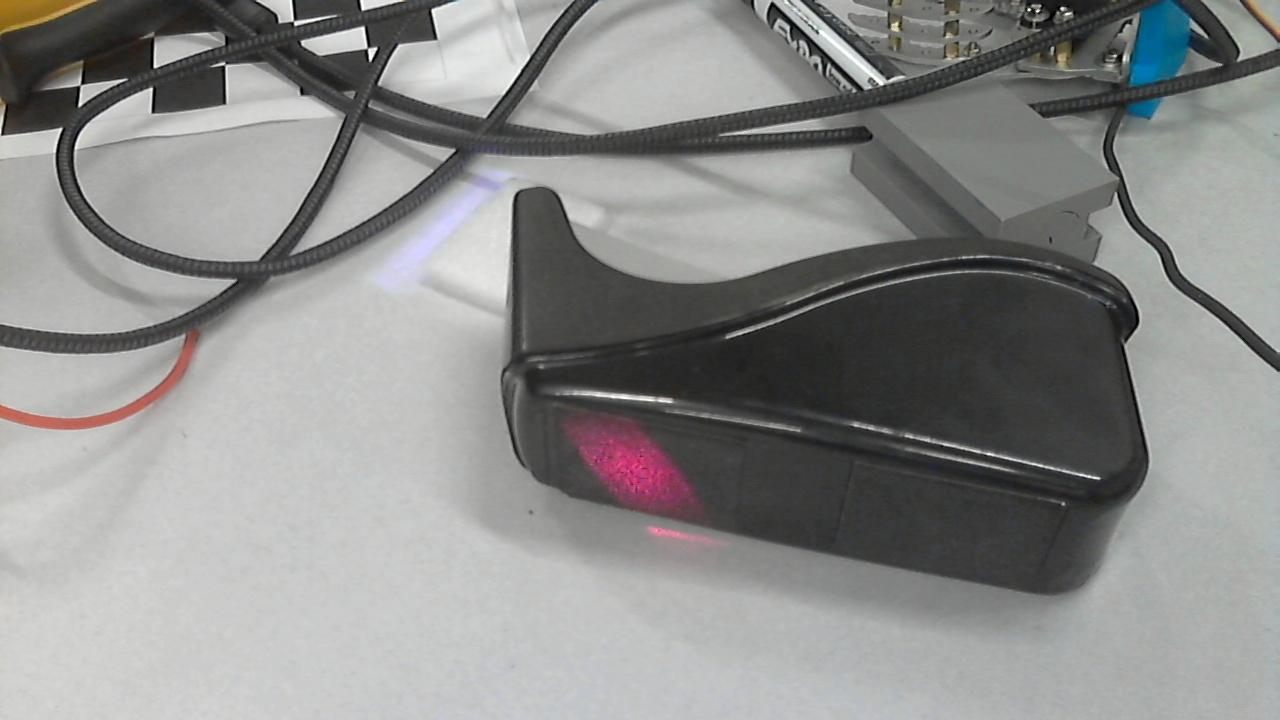Object desktop tape dispenser - Material plastic - Pdfname 8pMd29OsIRjD: (537, 391, 753, 520)
